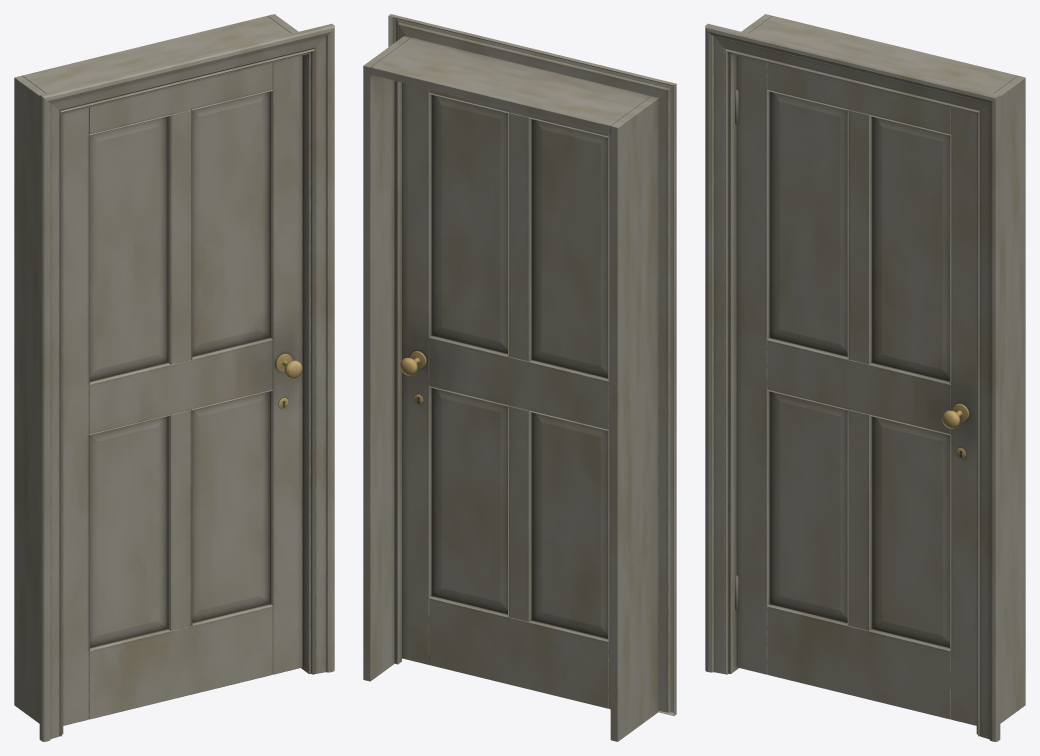
The model's file is door.glb.
The picture shows the model from 3 angles, left to right: view 1: azimuth 30°, elevation 25°; view 2: azimuth 150°, elevation 25°; view 3: azimuth 330°, elevation 25°; orthographic projection. The views are drawn at different scales.
Visible parts, largest first — view 1: door_leaf, door_frame, knob; view 2: door_leaf, door_frame, knob; view 3: door_leaf, door_frame, knob.
Part boxes in pixels (bbox=[...]): door_leaf: bbox=[63, 55, 302, 725]; door_frame: bbox=[14, 14, 334, 741]; knob: bbox=[275, 353, 302, 408]; door_leaf: bbox=[402, 82, 610, 709]; door_frame: bbox=[363, 14, 676, 741]; knob: bbox=[400, 351, 426, 404]; door_leaf: bbox=[737, 55, 976, 725]; door_frame: bbox=[705, 14, 1025, 741]; knob: bbox=[942, 403, 969, 458].
Size of the model in its own units: 0.976 by 2.06 by 0.286.
Materials: 1 (1 with a texture image).
